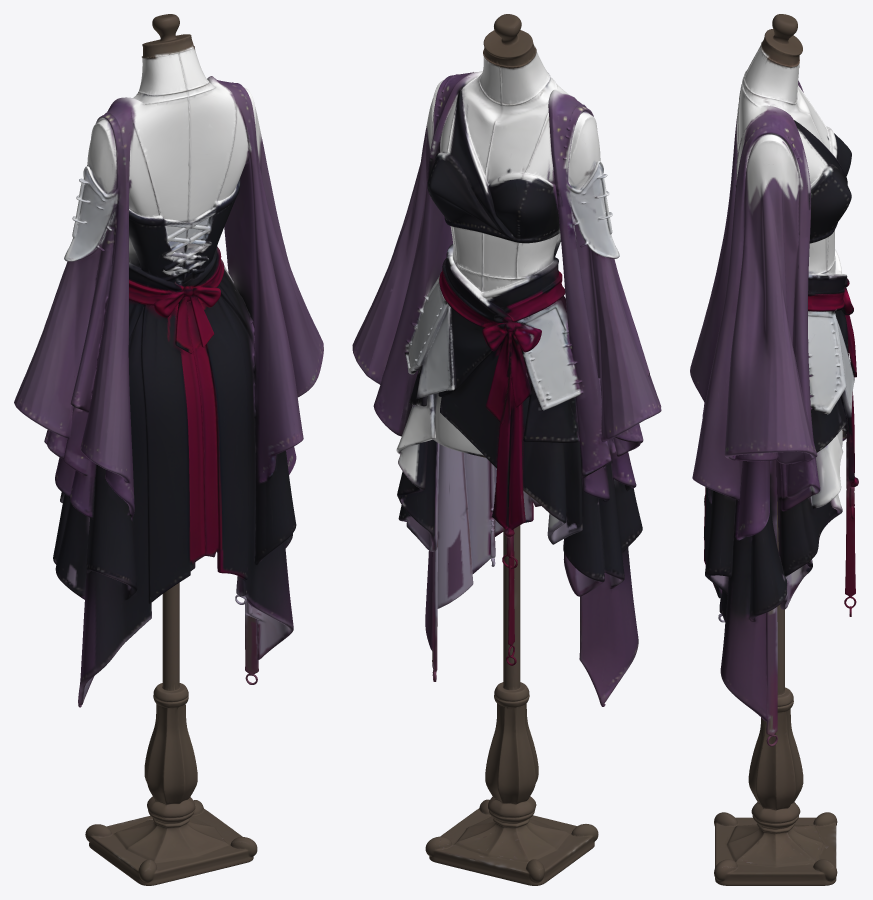
Rendered from SM_F_Mannequin_04.glb.
3 renders of one model, left to right at view 1: azimuth 30°, elevation 25°; view 2: azimuth 150°, elevation 25°; view 3: azimuth 270°, elevation 25°, orthographic.
Visible parts, largest first — view 1: SM_F_Mannequin_04; view 2: SM_F_Mannequin_04; view 3: SM_F_Mannequin_04.
Part boxes in pixels (x1,y1,x2,y2): SM_F_Mannequin_04: [14, 14, 323, 885]; SM_F_Mannequin_04: [352, 14, 661, 885]; SM_F_Mannequin_04: [690, 14, 858, 885].
Bounding box in the file's own units: 0.7305 × 1.95 × 0.3545.
Materials: 1 (1 with a texture image).
